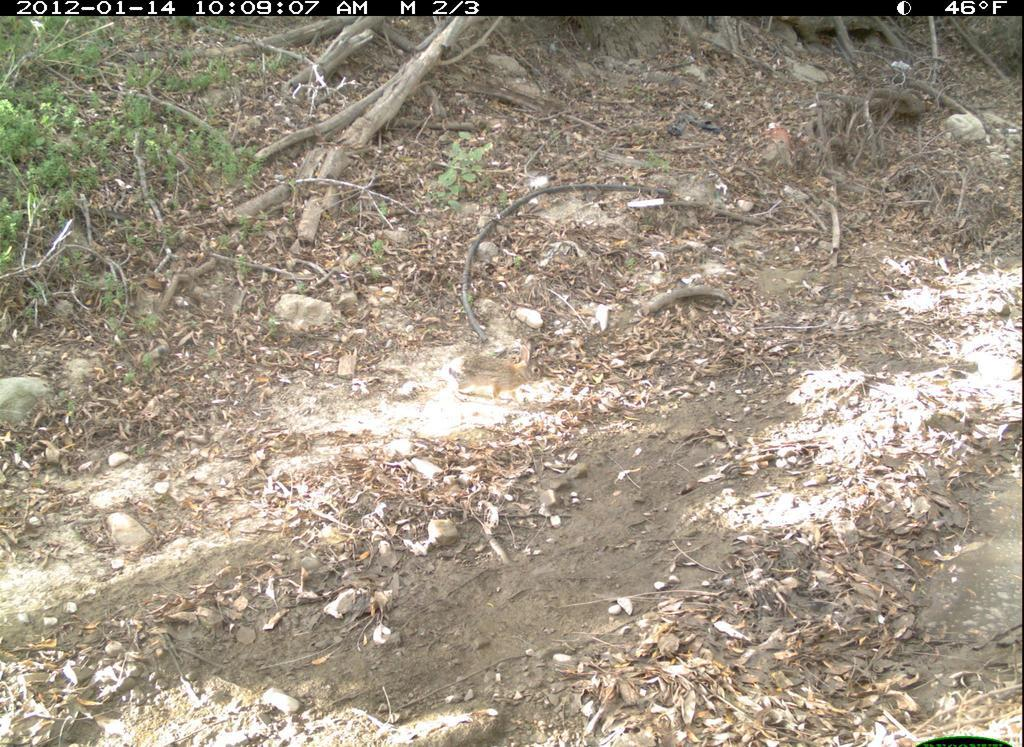rabbit: (429, 333, 573, 409)
